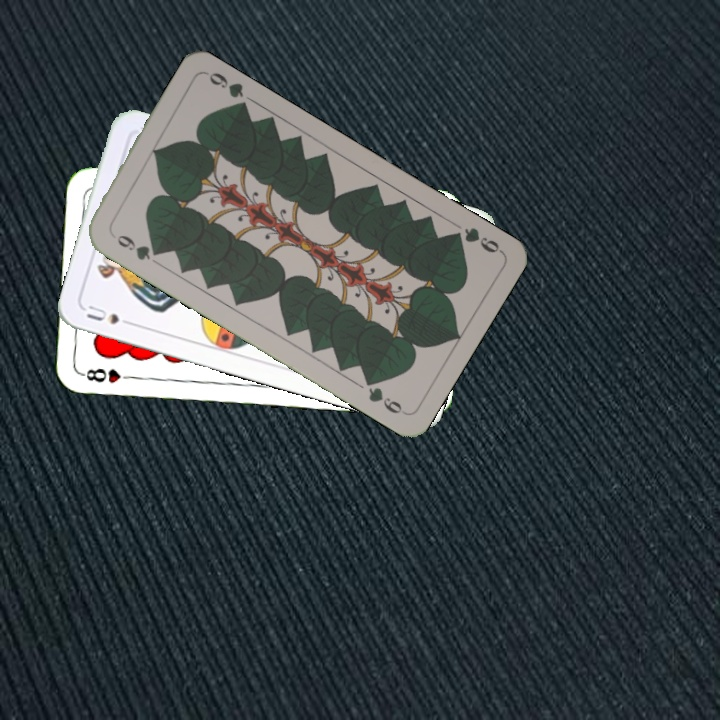G9: (106, 227, 163, 263), (445, 223, 505, 256)
H8: (78, 364, 137, 385)
SU: (83, 301, 139, 330)
